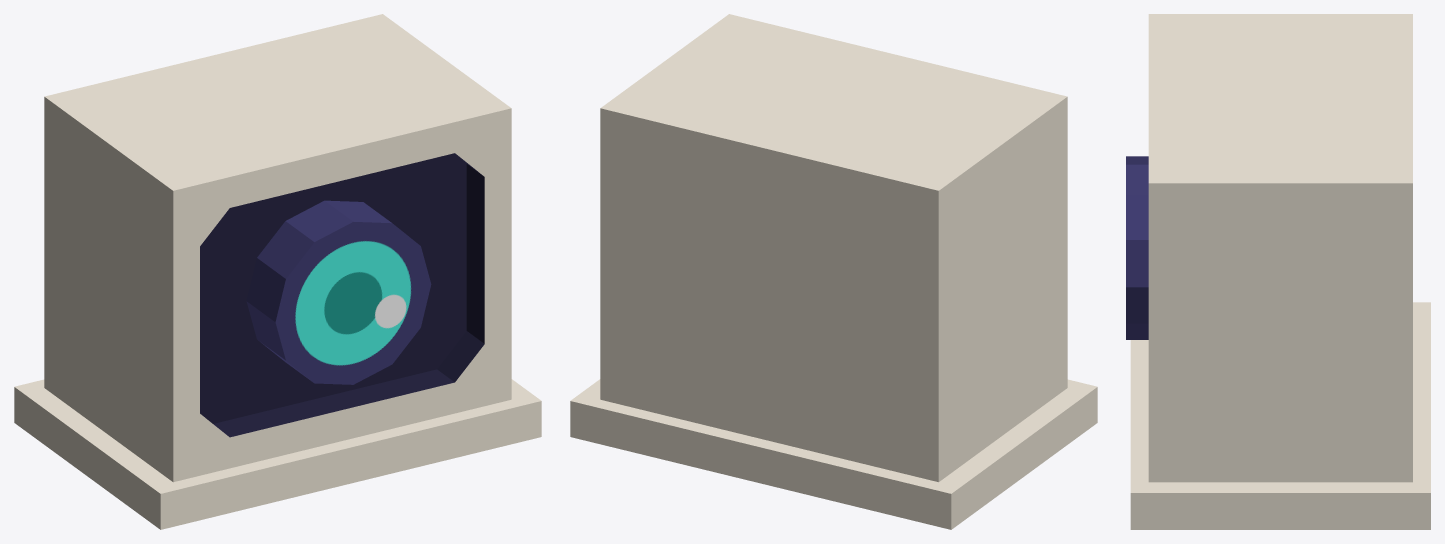
File: Camera HD.fbx
3 views of the same model, side by side, from view 1: azimuth 30°, elevation 25°; view 2: azimuth 150°, elevation 25°; view 3: azimuth 270°, elevation 25° (orthographic). The views are drawn at different scales.
Visible parts, largest first — view 1: HD Cam; view 2: HD Cam; view 3: HD Cam.
Part boxes in pixels (left/top/right/bottom): HD Cam: left=14, top=14, right=541, bottom=529; HD Cam: left=570, top=14, right=1097, bottom=529; HD Cam: left=1126, top=14, right=1430, bottom=529.
Bounding box in the file's own units: 3.01 × 2.47 × 2.03.
